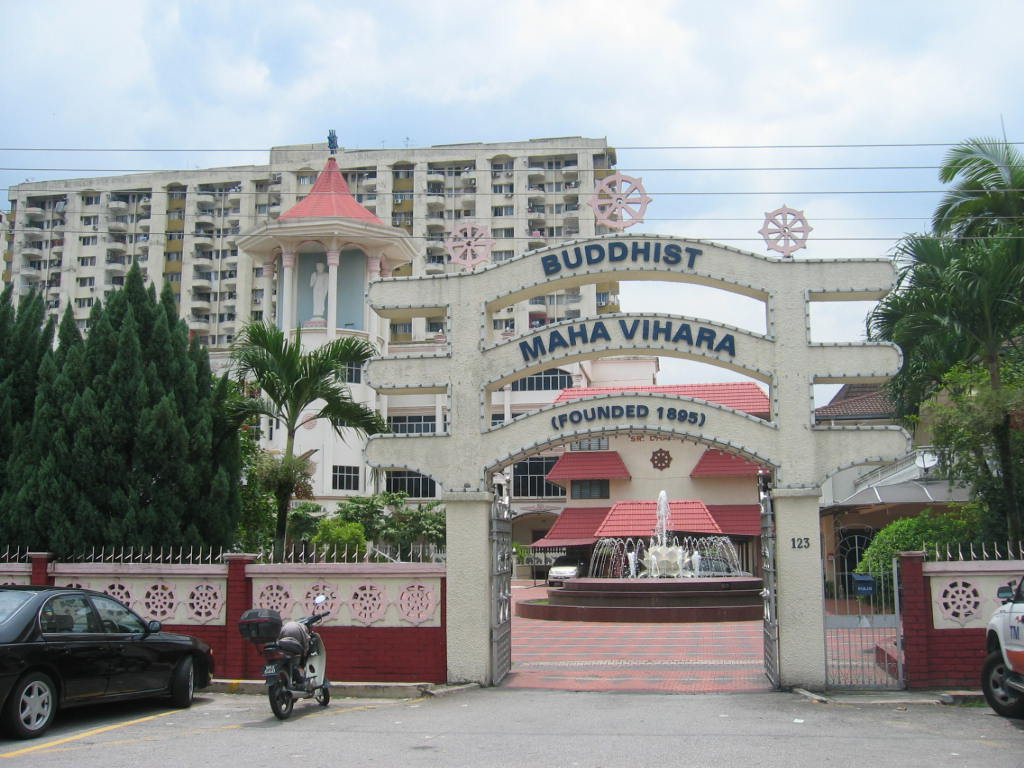Buddhist Temple: (267, 142, 853, 614)
